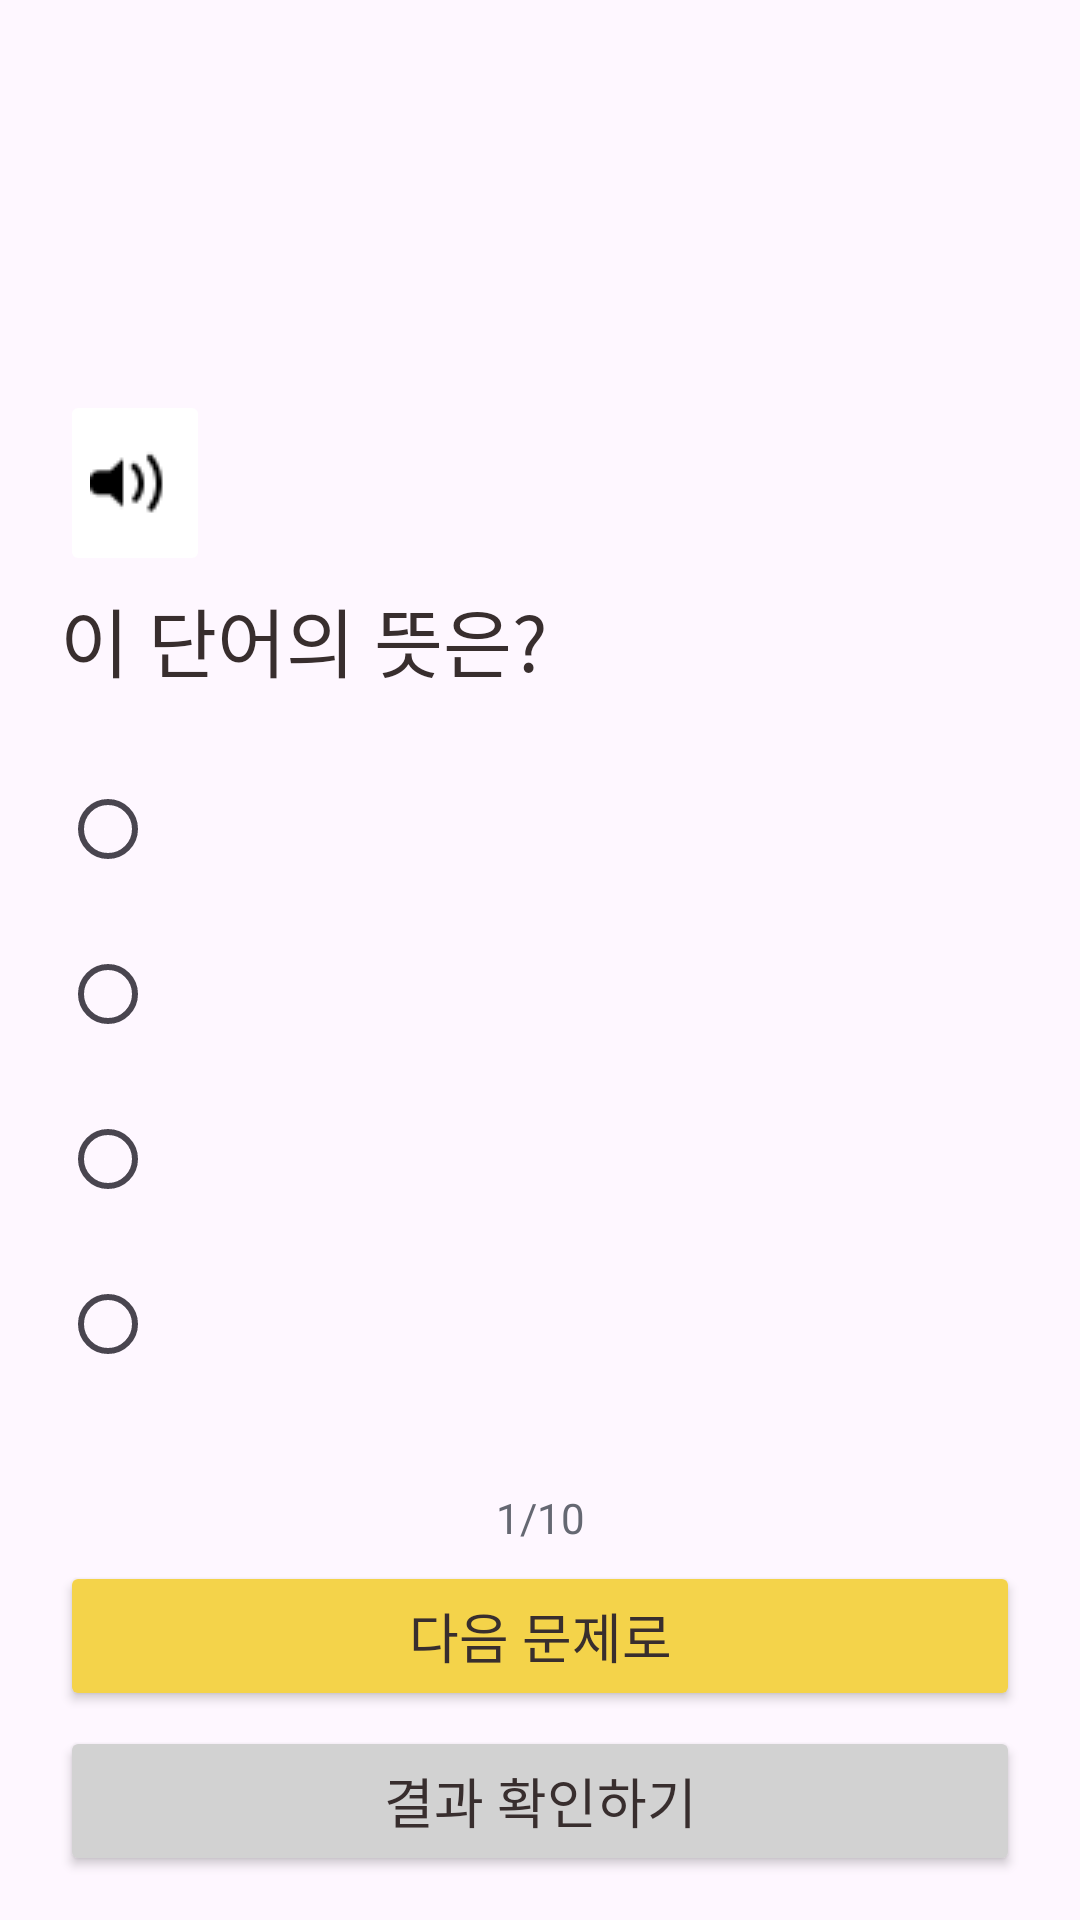

Where icons sit on this 1080*1920 app screen, as BBox(x1, y1, x2, y2):
voice: BBox(90, 454, 163, 513)
